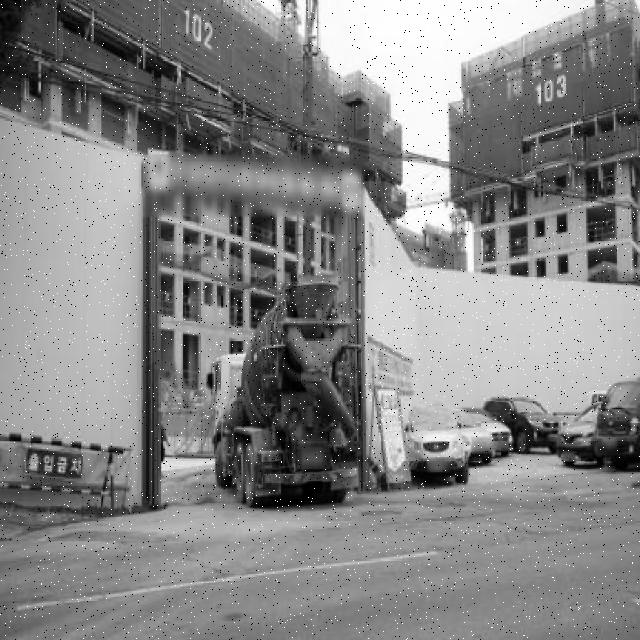Concrete Mixer: (204, 285, 360, 509)
